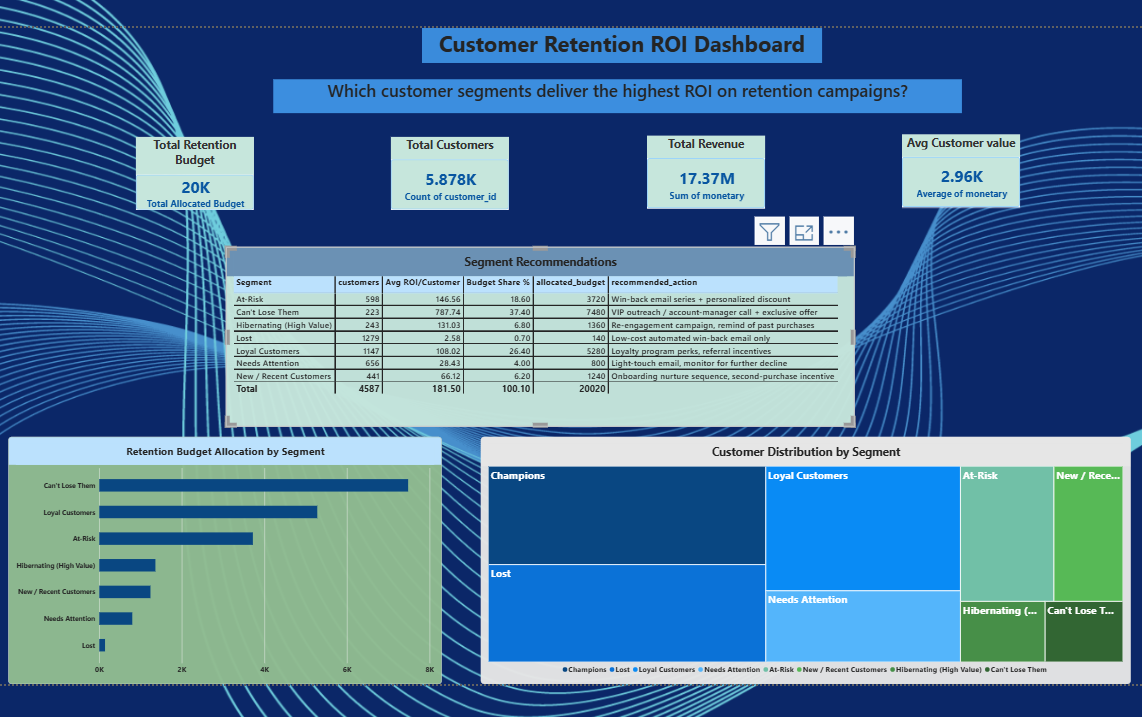

Layout of this report page (visuals, bound fields, positions):
{"tool":"powerbi","page":{"name":"Page 1","canvas":[2560,1440],"ordinal":0},"visuals":[{"type":"cardVisual","title":"Total Customers","fields":{"Data":["CountNonNull(rfm_scored.customer_id)"]},"box":[898.3,238.8,259.3,160.5],"z":0},{"type":"cardVisual","title":"Total Revenue","fields":{"Data":["Sum(rfm_scored.monetary)"]},"box":[1459.1,236,259.3,160.5],"z":1000},{"type":"cardVisual","title":"Avg Customer value","fields":{"Data":["Avg(rfm_scored.monetary)"]},"box":[2019.9,233.3,259.3,160.5],"z":2000},{"type":"treemap","title":"Customer Distribution by Segment","fields":{"Group":["rfm_scored.Segment"],"Values":["CountNonNull(rfm_scored.customer_id)"]},"box":[1095,897.4,1427.1,543.4],"z":3000},{"type":"clusteredBarChart","title":"Retention Budget Allocation by Segment","fields":{"Category":["budget_allocation.Segment"],"Y":["Sum(budget_allocation.allocated_budget)"]},"box":[57.6,897.4,952.3,543.4],"z":4000},{"type":"tableEx","title":"Segment Recommendations","fields":{"Values":["budget_allocation.Segment","Sum(budget_allocation.customers)","Avg(budget_allocation.expected_roi_per_customer)","Sum(budget_allocation.budget_share_pct)","Sum(budget_allocation.allocated_budget)","budget_allocation.recommended_action"]},"box":[535.2,480.3,1380.5,395.2],"z":5000},{"type":"cardVisual","title":"Total Retention Budget","fields":{"Data":["budget_allocation.Total Allocated Budget"]},"box":[337.6,238.8,259.3,160.5],"z":5001},{"type":"textbox","box":[966,0,878.2,76.8],"z":5002},{"type":"textbox","box":[639.5,112.5,1512.2,74.1],"z":5003}]}

Visuals, with their boxes in screenshot pixels (x1, y1, x2, y2):
"Total Customers" cardVisual: box(386, 133, 504, 206)
"Total Revenue" cardVisual: box(642, 131, 760, 205)
"Avg Customer value" cardVisual: box(897, 130, 1016, 203)
"Customer Distribution by Segment" treemap: box(476, 433, 1127, 681)
"Retention Budget Allocation by Segment" clusteredBarChart: box(2, 433, 437, 681)
"Segment Recommendations" tableEx: box(220, 243, 850, 423)
"Total Retention Budget" cardVisual: box(130, 133, 248, 206)
textbox: box(417, 24, 817, 59)
textbox: box(268, 75, 958, 109)
